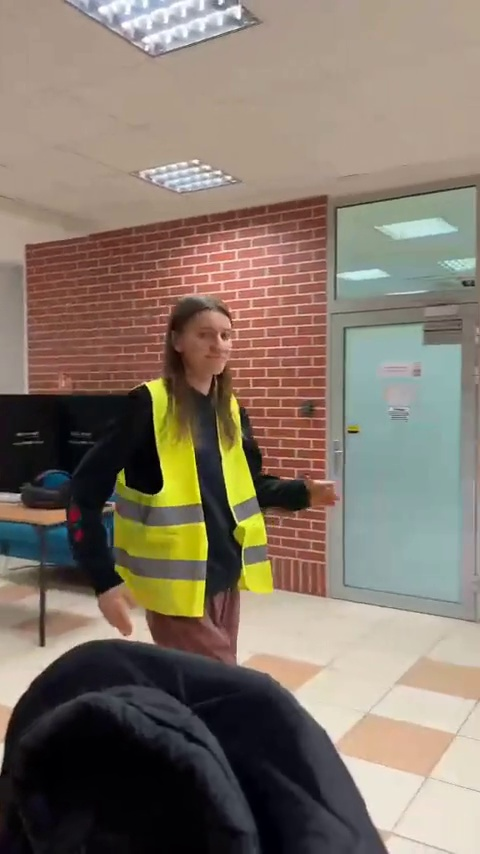vest: (92, 290, 332, 667)
